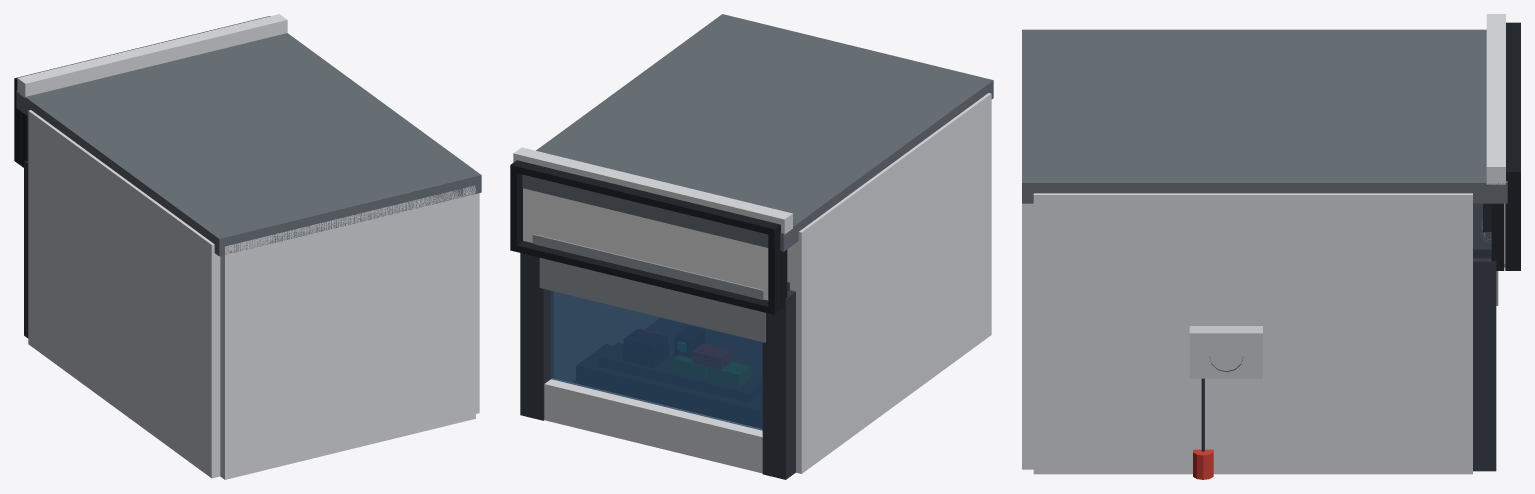
Rendered from env_pc_express_store.obj.
3 renders of one model, left to right at view 1: azimuth 30°, elevation 25°; view 2: azimuth 150°, elevation 25°; view 3: azimuth 270°, elevation 25°, orthographic. The views are drawn at different scales.
Parts seen in each view (by area): view 1: env_pc_express_store; view 2: env_pc_express_store; view 3: env_pc_express_store.
Part boxes in pixels (x1,y1,x2,y2): env_pc_express_store: (14, 14, 481, 479); env_pc_express_store: (510, 14, 993, 479); env_pc_express_store: (1022, 14, 1520, 479).
Size of the model in its own units: 5.05 by 4.38 by 6.47.
